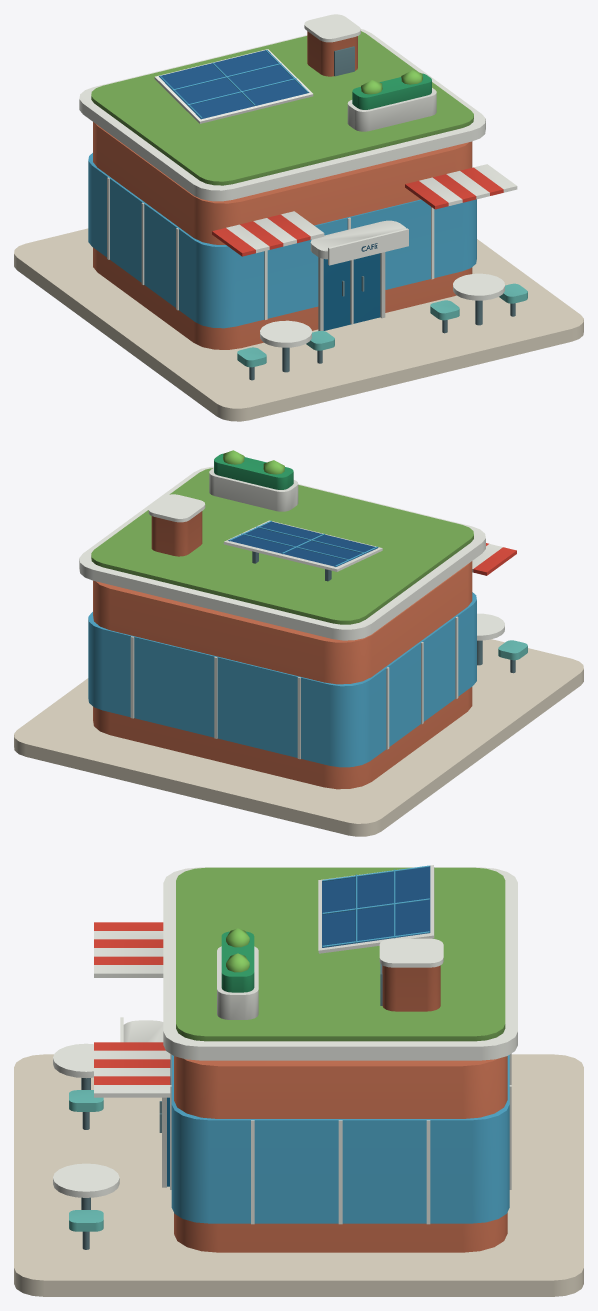
Rendered from corner-cafe-low.glb.
The picture shows the model from 3 angles, top to bottom: view 1: azimuth 30°, elevation 25°; view 2: azimuth 150°, elevation 25°; view 3: azimuth 270°, elevation 25°; orthographic projection. The views are drawn at different scales.
Visible parts, largest first — view 1: cafe footing, continuous blue glazing, green roof, glass vertical mullion, cafe shell, photovoltaic cells, recessed entrance, striped café shade, cafe seat, planter foliage, roof access hatch; view 2: continuous blue glazing, cafe footing, cafe shell, green roof, glass vertical mullion, photovoltaic cells, planter foliage, striped café shade, shrub tip; view 3: cafe footing, green roof, continuous blue glazing, cafe shell, glass vertical mullion, photovoltaic cells, striped café shade, cafe seat, planter foliage, roof access hatch, shrub tip.
Boxes of the visible parts, x1=… form: cafe footing: x1=14, y1=228, x2=583, y2=421; continuous blue glazing: x1=88, y1=50, x2=476, y2=328; green roof: x1=91, y1=31, x2=473, y2=185; glass vertical mullion: x1=79, y1=14, x2=517, y2=347; cafe shell: x1=93, y1=31, x2=472, y2=349; photovoltaic cells: x1=159, y1=50, x2=309, y2=119; recessed entrance: x1=323, y1=253, x2=380, y2=330; striped café shade: x1=212, y1=167, x2=503, y2=256; cafe seat: x1=237, y1=283, x2=527, y2=367; planter foliage: x1=352, y1=73, x2=431, y2=109; roof access hatch: x1=249, y1=46, x2=515, y2=380; continuous blue glazing: x1=88, y1=520, x2=476, y2=767; cafe footing: x1=14, y1=639, x2=583, y2=836; cafe shell: x1=93, y1=511, x2=472, y2=789; green roof: x1=91, y1=468, x2=473, y2=624; glass vertical mullion: x1=79, y1=466, x2=504, y2=759; photovoltaic cells: x1=228, y1=521, x2=378, y2=566; planter foliage: x1=214, y1=453, x2=293, y2=489; striped café shade: x1=473, y1=543, x2=516, y2=575; shrub tip: x1=223, y1=450, x2=284, y2=474; cafe footing: x1=14, y1=1054, x2=583, y2=1296; green roof: x1=176, y1=867, x2=505, y2=1041; continuous blue glazing: x1=171, y1=865, x2=509, y2=1223; cafe shell: x1=174, y1=965, x2=507, y2=1252; glass vertical mullion: x1=53, y1=865, x2=517, y2=1224; photovoltaic cells: x1=322, y1=866, x2=430, y2=947; striped café shade: x1=94, y1=922, x2=170, y2=1084; cafe seat: x1=69, y1=1090, x2=103, y2=1231; planter foliage: x1=221, y1=931, x2=254, y2=992; roof access hatch: x1=81, y1=964, x2=382, y2=1249; shrub tip: x1=226, y1=928, x2=249, y2=972.
Size of the model in its own units: 3.85 by 2.27 by 4.1.
